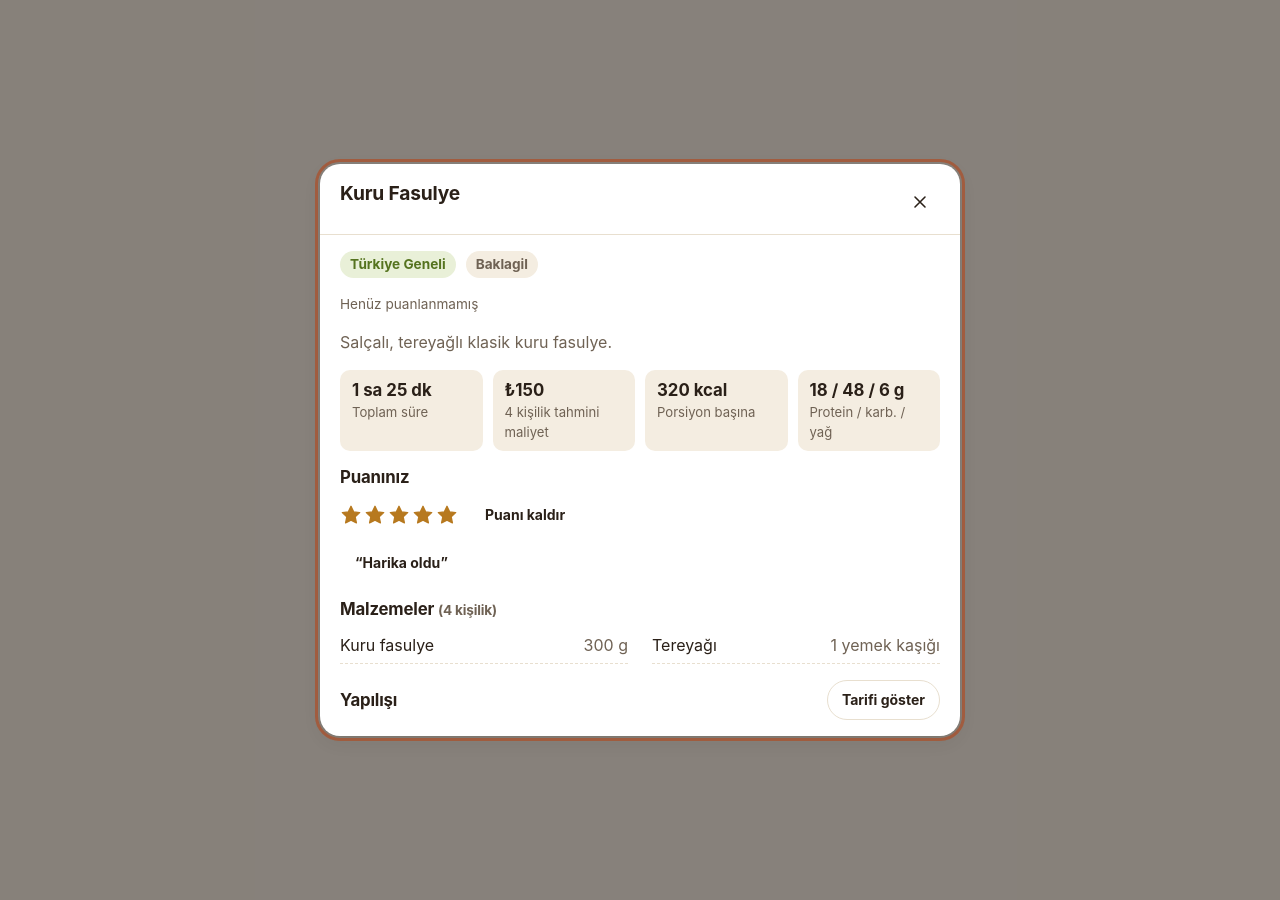
Test: DishDetail › puanlama › mevcut puanı ve yorumu gösterir; kaldır düğmesiyle siler
The width and height of the screenshot is (1280, 900).
Expected: the button "“Harika oldu”" is shown, [340,543,463,583]
Click the button "Puanı kaldır" at (525, 515), box [470,495,580,535]
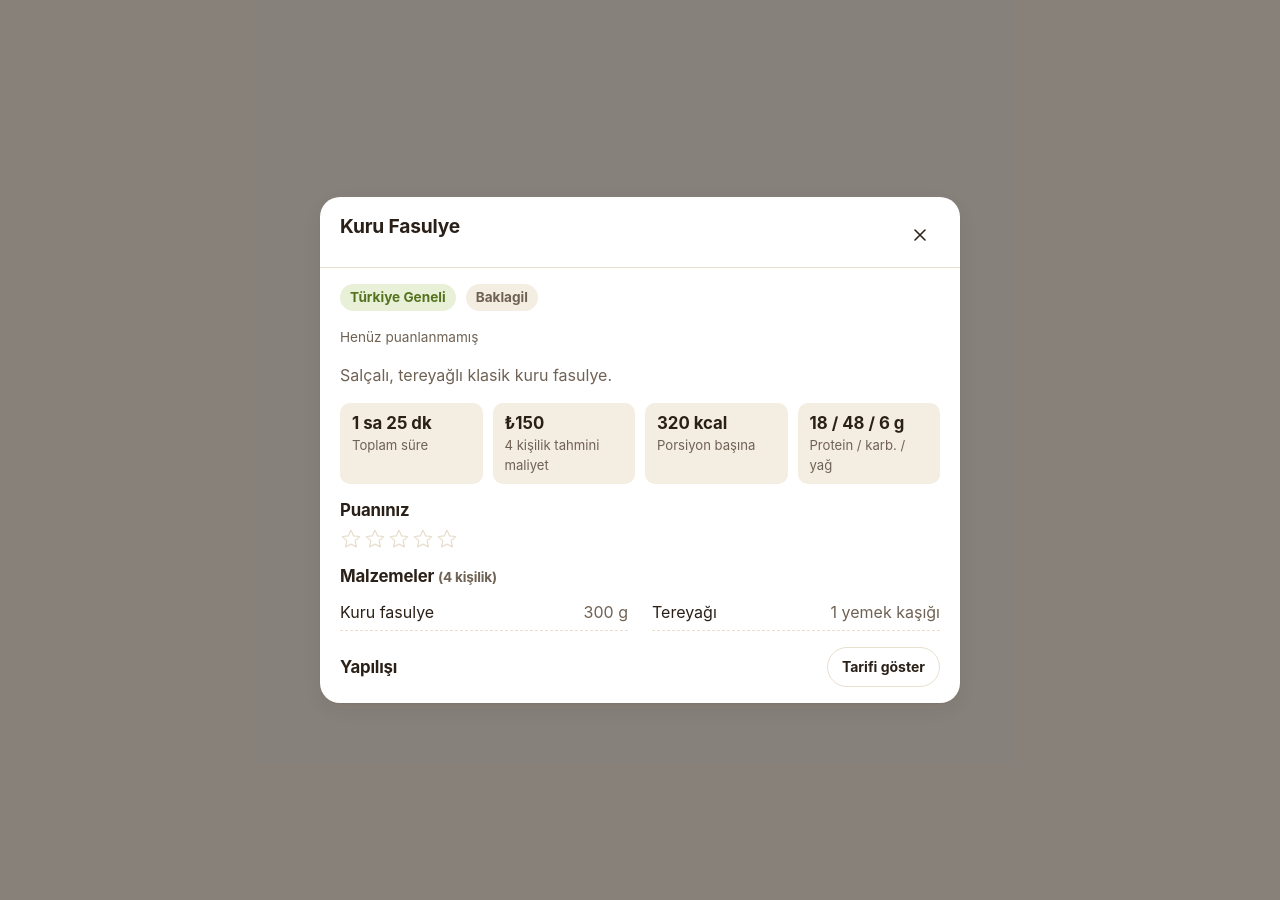
Result: the button "Puanı kaldır" is gone
